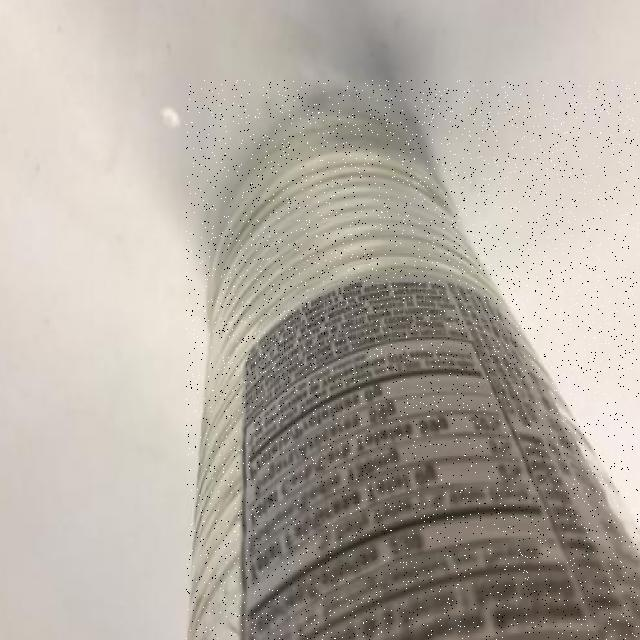glass: (186, 80, 640, 640)
